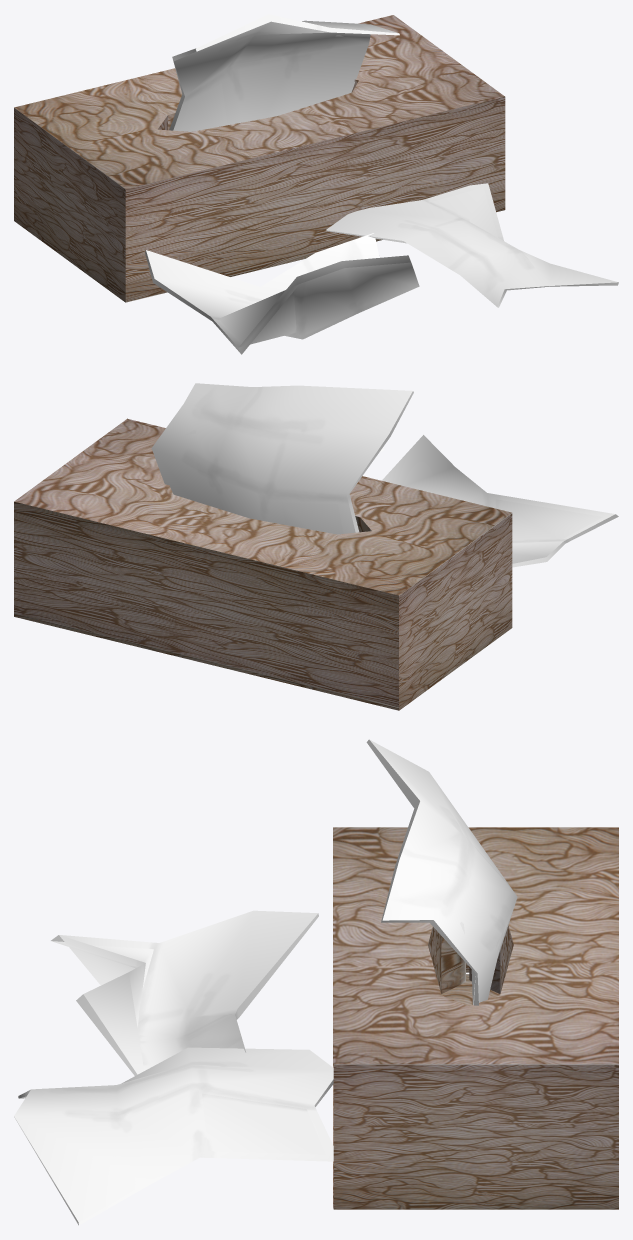
The model's file is props_tissueBox.fbx.
3 renders of one model, top to bottom at view 1: azimuth 30°, elevation 25°; view 2: azimuth 150°, elevation 25°; view 3: azimuth 270°, elevation 25°, orthographic. The views are drawn at different scales.
Visible parts, largest first — view 1: tissueBox_GEO; view 2: tissueBox_GEO; view 3: tissueBox_GEO.
Part boxes in pixels (x1=…): tissueBox_GEO: x1=14, y1=14, x2=618, y2=354; tissueBox_GEO: x1=14, y1=383, x2=618, y2=710; tissueBox_GEO: x1=14, y1=739, x2=618, y2=1225.
Size of the model in its own units: 3.77 by 2.08 by 3.88.
